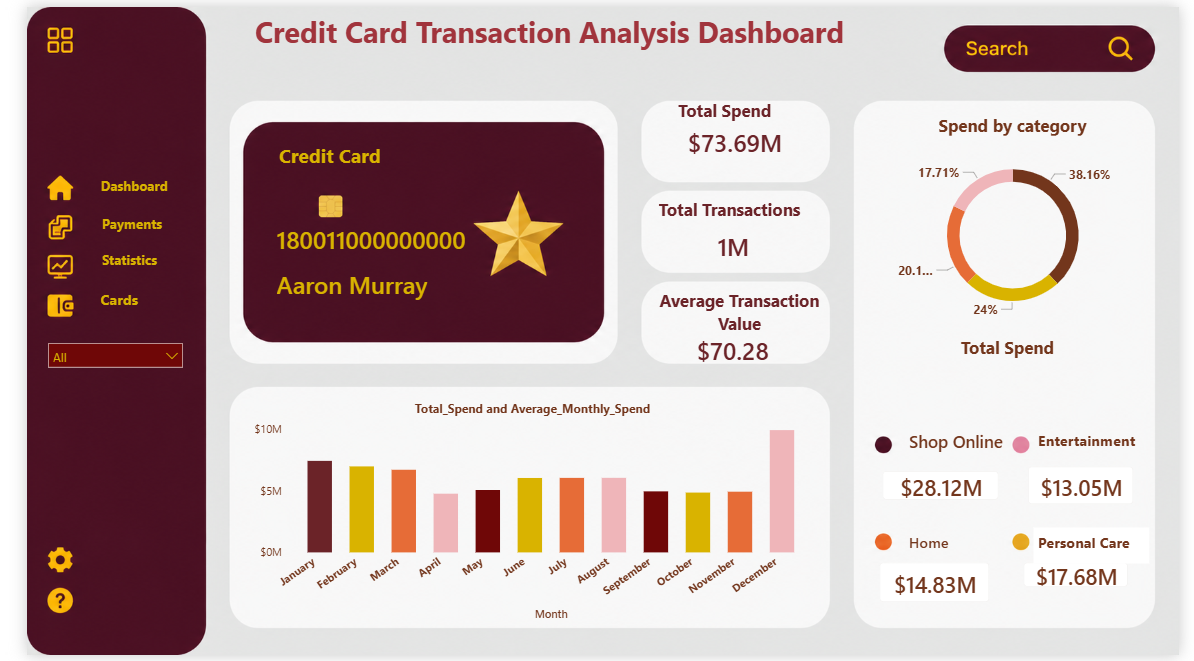

Layout of this report page (visuals, bound fields, positions):
{"tool":"powerbi","page":{"name":"Page 1","canvas":[1280,720],"ordinal":0},"visuals":[{"type":"textbox","box":[248.3,0,750,60],"z":0},{"type":"cardVisual","fields":{"Data":["Credit_Card_dataset.Total_Spend"]},"box":[696.7,91.7,180,115],"z":1000},{"type":"cardVisual","fields":{"Data":["Credit_Card_dataset.Total_Transaction"]},"box":[728.3,231.7,113.3,66.7],"z":2000},{"type":"cardVisual","fields":{"Data":["Credit_Card_dataset.Avg_Transaction_Value"]},"box":[691.7,348.3,185,63.3],"z":3000},{"type":"textbox","box":[718.3,96.7,141.7,41.7],"z":4000},{"type":"textbox","box":[696.7,206.7,180,35],"z":5000},{"type":"textbox","box":[673.3,308.3,236.7,60],"z":6000},{"type":"cardVisual","fields":{"Data":["Min(Credit_Card_dataset.cc_num)"]},"box":[248.3,218.3,283.3,76.7],"z":7000},{"type":"cardVisual","fields":{"Data":["Min(Credit_Card_dataset.Full_Name)"]},"box":[248.3,266.7,323.3,81.7],"z":8000},{"type":"lineStackedColumnComboChart","title":"Total_Spend and Average_Monthly_Spend","fields":{"Category":["Credit_Card_dataset.trans_date_trans_time.Variation.Date Hierarchy.Month"],"Y":["Credit_Card_dataset.Total_Spend"]},"box":[246.7,436.7,630,250],"z":9000},{"type":"donutChart","title":"Spend by category","fields":{"Category":["Credit_Card_dataset.category"],"Y":["Credit_Card_dataset.Total_Spend"]},"box":[963.3,118.3,263.3,245],"z":10000},{"type":"cardVisual","fields":{"Data":["Credit_Card_dataset.Total_Spend"]},"box":[933.3,498.3,163.3,66.7],"z":11000},{"type":"cardVisual","fields":{"Data":["Credit_Card_dataset.Total_Spend"]},"box":[1090,600,150,61.7],"z":12000},{"type":"cardVisual","fields":{"Data":["Credit_Card_dataset.Total_Spend"]},"box":[1095,493.3,151.7,76.7],"z":13000},{"type":"cardVisual","fields":{"Data":["Credit_Card_dataset.Total_Spend"]},"box":[930,600,156.7,78.3],"z":14000},{"type":"textbox","box":[975,465,131.7,53.3],"z":15000},{"type":"textbox","box":[1118.3,578.3,128.3,40],"z":16000},{"type":"textbox","box":[975,578.3,103.3,43.3],"z":17000},{"type":"textbox","box":[1118.3,465,128.3,43.3],"z":18000},{"type":"textbox","box":[1008.3,360,161.7,76.7],"z":19000},{"type":"slicer","fields":{"Values":["Credit_Card_dataset.Full_Name"]},"box":[13.3,363.3,170,80],"z":20000},{"type":"textbox","box":[60,183.3,118.3,41.7],"z":21000},{"type":"textbox","box":[78.3,225,123.3,53.3],"z":22000},{"type":"textbox","box":[78.3,265,185,58.3],"z":23000},{"type":"textbox","box":[76.7,308.3,213.3,46.7],"z":24000},{"type":"textbox","box":[275,145,203.3,76.7],"z":25000}]}

Visuals, with their boxes in screenshot pixels (x1, y1, x2, y2), scaled from the page's 1280x720 canvas onto the 1194x661 screenshot:
textbox: x1=232 y1=0 x2=931 y2=55
cardVisual - Credit_Card_dataset.Total_Spend: x1=650 y1=84 x2=818 y2=190
cardVisual - Credit_Card_dataset.Total_Transaction: x1=679 y1=213 x2=785 y2=274
cardVisual - Credit_Card_dataset.Avg_Transaction_Value: x1=645 y1=320 x2=818 y2=378
textbox: x1=670 y1=89 x2=802 y2=127
textbox: x1=650 y1=190 x2=818 y2=222
textbox: x1=628 y1=283 x2=849 y2=338
cardVisual - Min(Credit_Card_dataset.cc_num): x1=232 y1=200 x2=496 y2=271
cardVisual - Min(Credit_Card_dataset.Full_Name): x1=232 y1=245 x2=533 y2=320
"Total_Spend and Average_Monthly_Spend" lineStackedColumnComboChart: x1=230 y1=401 x2=818 y2=630
"Spend by category" donutChart: x1=899 y1=109 x2=1144 y2=334
cardVisual - Credit_Card_dataset.Total_Spend: x1=871 y1=457 x2=1023 y2=519
cardVisual - Credit_Card_dataset.Total_Spend: x1=1017 y1=551 x2=1157 y2=607
cardVisual - Credit_Card_dataset.Total_Spend: x1=1021 y1=453 x2=1163 y2=523
cardVisual - Credit_Card_dataset.Total_Spend: x1=868 y1=551 x2=1014 y2=623
textbox: x1=909 y1=427 x2=1032 y2=476
textbox: x1=1043 y1=531 x2=1163 y2=568
textbox: x1=909 y1=531 x2=1006 y2=571
textbox: x1=1043 y1=427 x2=1163 y2=467
textbox: x1=941 y1=330 x2=1091 y2=401
slicer - Credit_Card_dataset.Full_Name: x1=12 y1=334 x2=171 y2=407
textbox: x1=56 y1=168 x2=166 y2=207
textbox: x1=73 y1=207 x2=188 y2=255
textbox: x1=73 y1=243 x2=246 y2=297
textbox: x1=72 y1=283 x2=271 y2=326
textbox: x1=257 y1=133 x2=446 y2=204
